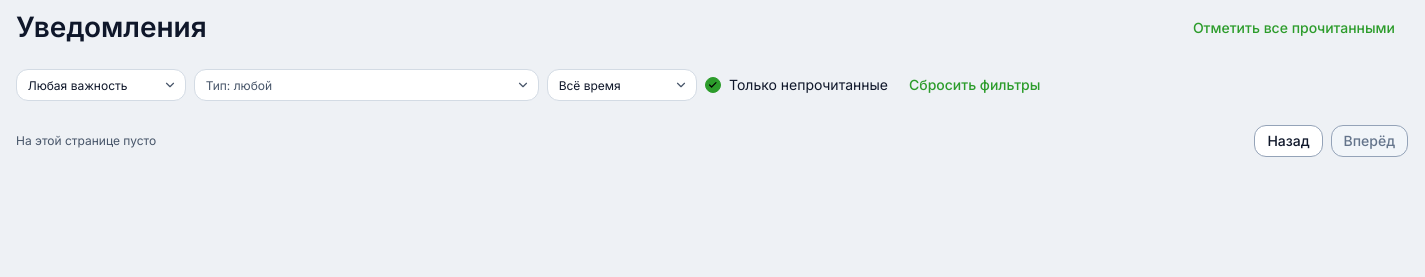
Scenario: Опустевшая страница журнала уведомлений › не говорит «непрочитанных нет» и ведёт назад, где строки есть
Expected: the text "На этой странице пусто" is shown, [16,132,156,150]
What coordinates should you click on to do the following:
click the button "Назад"
I would click on:
 (1288, 141)
Its box is [1254,125,1323,157].
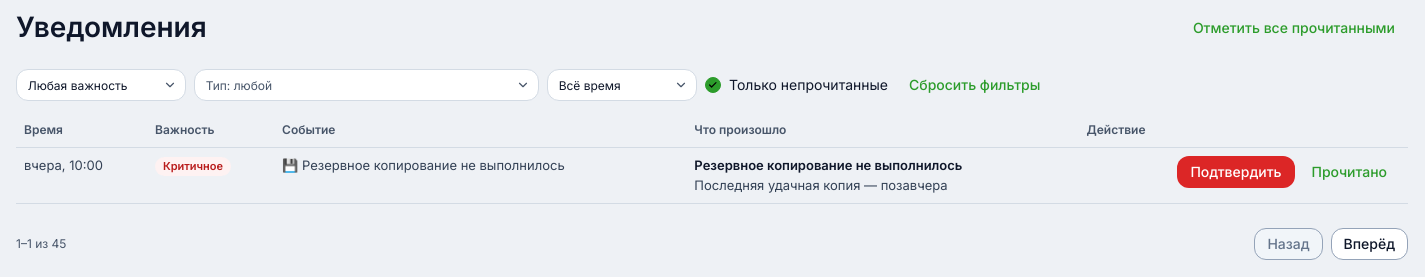
Now the table is shown, box [16,113,1408,204]
